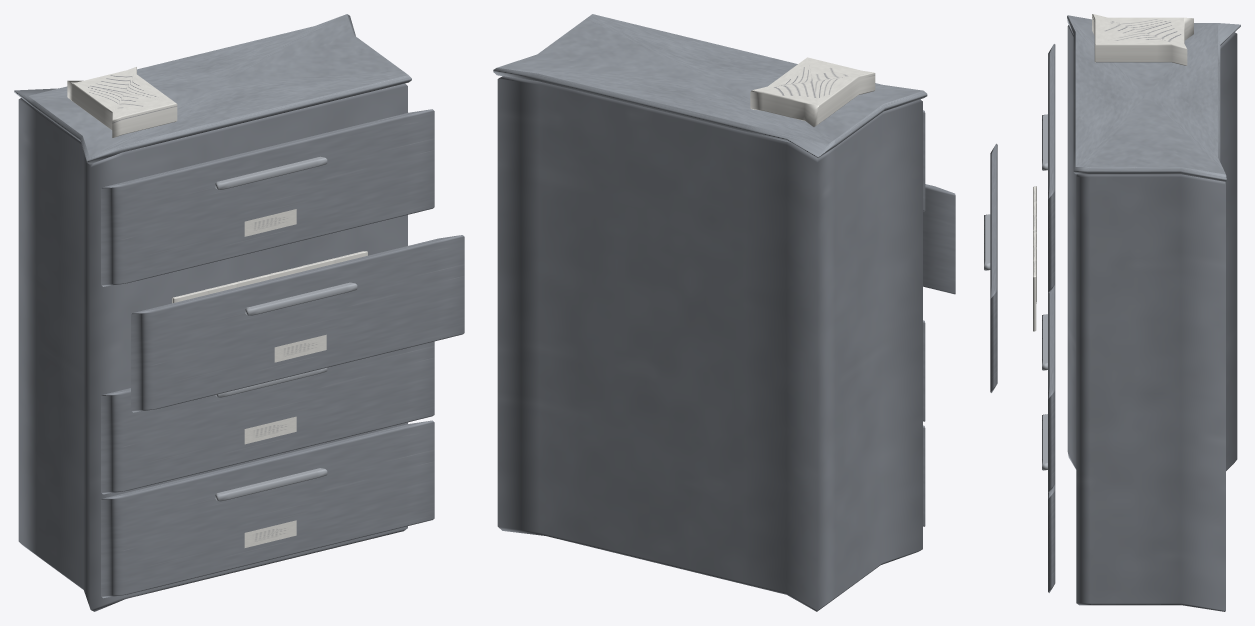
File: file_cabinet.glb
3 views of the same model, side by side, from view 1: azimuth 30°, elevation 25°; view 2: azimuth 150°, elevation 25°; view 3: azimuth 270°, elevation 25° (orthographic). The views are drawn at different scales.
Parts seen in each view (by area): view 1: File_Cabinet; view 2: File_Cabinet; view 3: File_Cabinet.
Boxes of the visible parts, x1,y1,x2,y2 form: File_Cabinet: [14, 14, 464, 611]; File_Cabinet: [493, 14, 955, 611]; File_Cabinet: [984, 14, 1240, 611].
Bounding box in the file's own units: 1.06 × 1.4 × 0.7101.
Materials: 4 (3 with a texture image).
